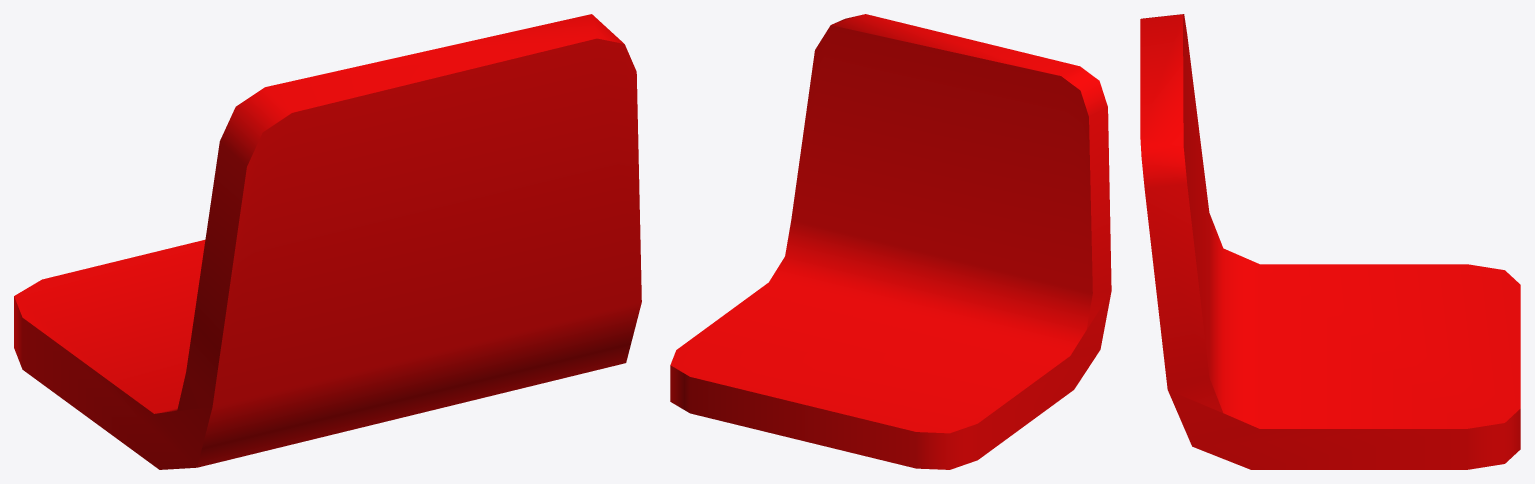
Rendered from Seat.fbx.
3 views of the same model, side by side, from view 1: azimuth 30°, elevation 25°; view 2: azimuth 150°, elevation 25°; view 3: azimuth 270°, elevation 25° (orthographic). The views are drawn at different scales.
Visible parts, largest first — view 1: Seat; view 2: Seat; view 3: Seat.
Part boxes in pixels (left/top/right/bottom): Seat: left=14, top=14, right=641, bottom=469; Seat: left=670, top=14, right=1111, bottom=469; Seat: left=1140, top=14, right=1520, bottom=469.
Size of the model in its own units: 45 by 40 by 43.86.
